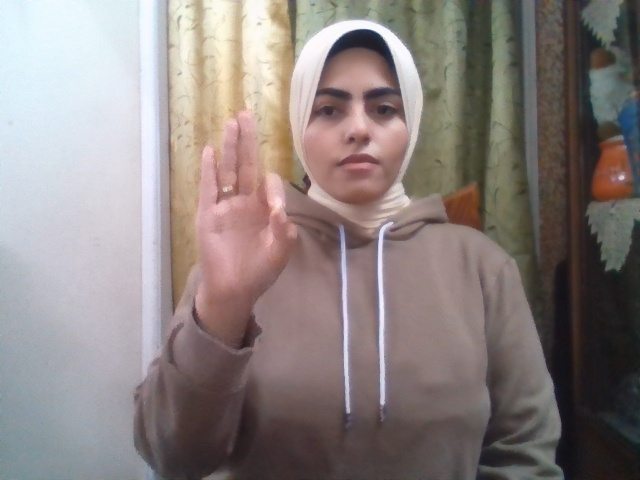F: (197, 111, 297, 306)
